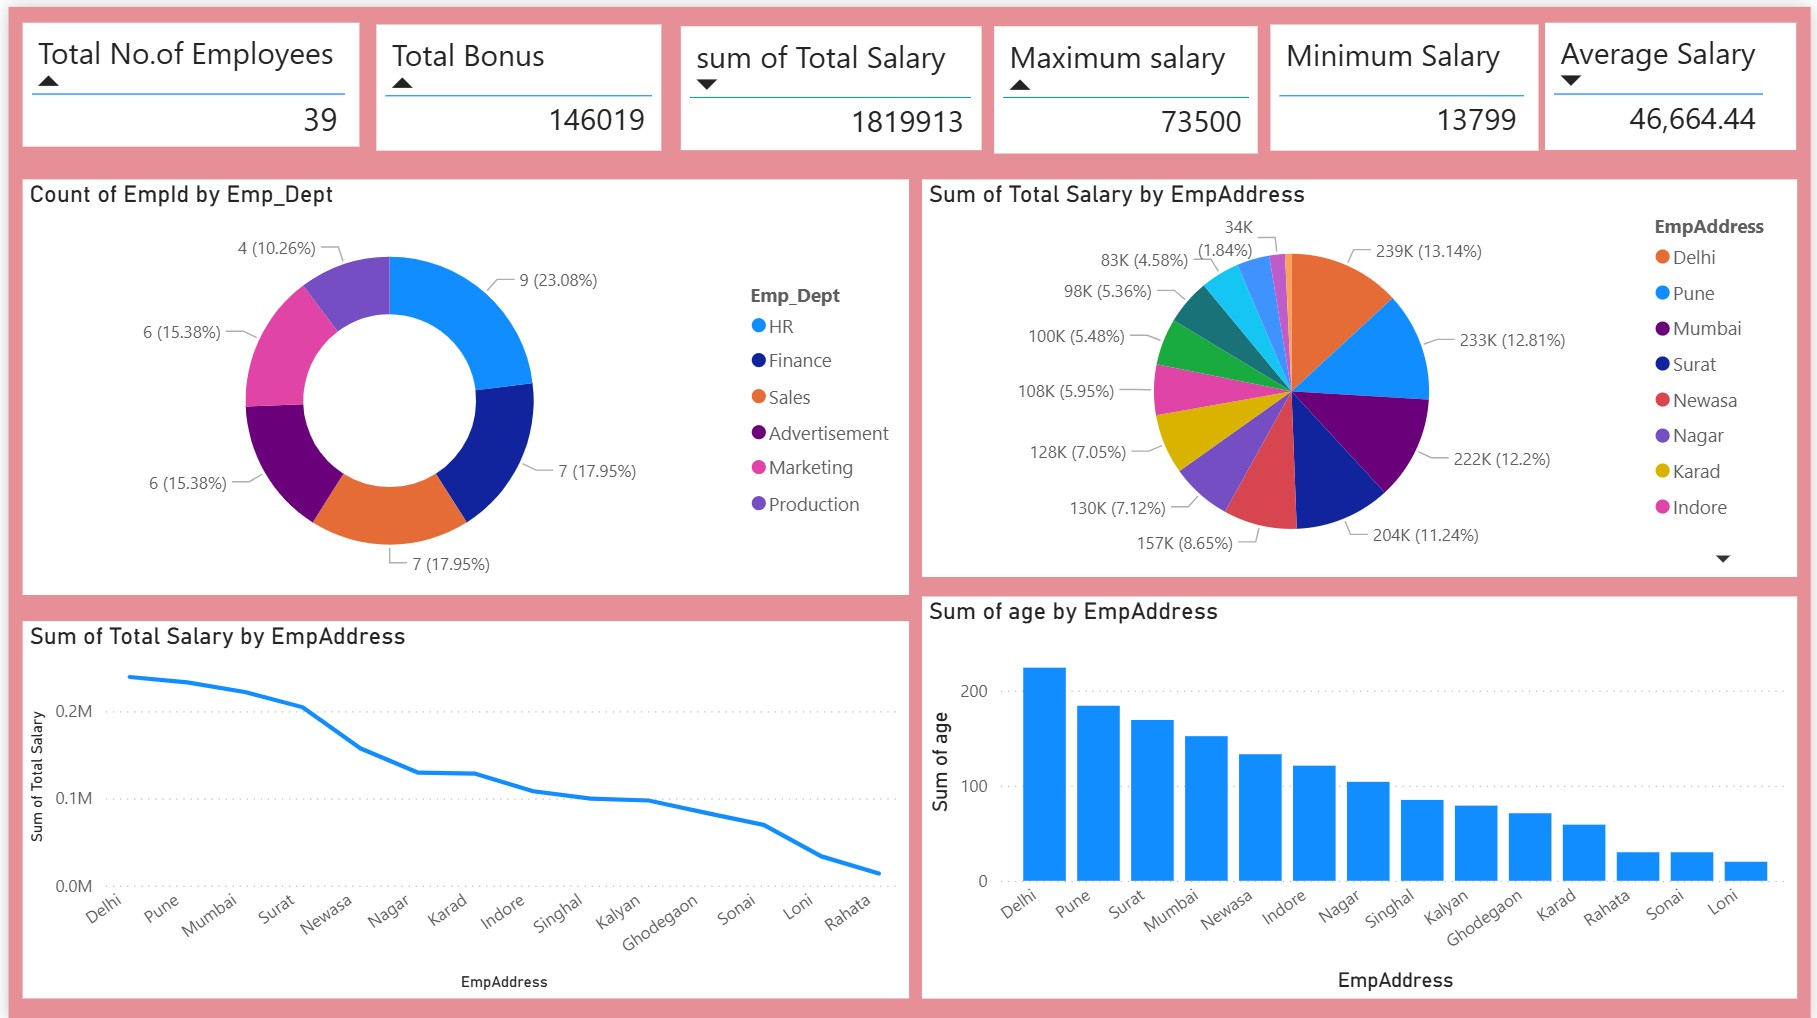

Layout of this report page (visuals, bound fields, positions):
{"tool":"powerbi","page":{"name":"Page 1","canvas":[1280,720],"ordinal":0},"visuals":[{"type":"tableEx","fields":{"Values":["Employee.Total No.of Employees"]},"box":[9.7,10.9,238.9,88.1],"z":0},{"type":"donutChart","fields":{"Category":["Employee.Emp_Dept "],"Y":["CountNonNull(Employee.EmpId)"]},"box":[9.7,123.1,629.8,295.6],"z":1000},{"type":"lineChart","fields":{"Category":["Employee.EmpAddress"],"Y":["Sum(Employee.Total Salary)"]},"box":[9.7,436.7,629.8,267.8],"z":2000},{"type":"tableEx","fields":{"Values":["Employee.Total Bonus"]},"box":[261.8,12.1,202.7,89.3],"z":3000},{"type":"columnChart","fields":{"Category":["Employee.EmpAddress"],"Y":["Sum(Employee.age)"]},"box":[649.1,418.6,621.3,285.9],"z":4000},{"type":"pieChart","fields":{"Category":["Employee.EmpAddress"],"Y":["Sum(Employee.Total Salary)"]},"box":[649.1,123.1,621.3,282.3],"z":5000},{"type":"tableEx","fields":{"Values":["Employee.sum of Total Salary"]},"box":[477.8,13.3,213.5,88.1],"z":6000},{"type":"tableEx","fields":{"Values":["Employee.Maximum salary"]},"box":[699.7,13.3,187,90.5],"z":7000},{"type":"tableEx","fields":{"Values":["Employee.Minimum Salary"]},"box":[896.4,12.1,190.6,89.3],"z":8000},{"type":"tableEx","fields":{"Values":["Employee.Average Salary"]},"box":[1091.8,10.9,178.6,90.5],"z":9000}]}

Visuals, with their boxes in screenshot pixels (x1, y1, x2, y2), scaled from the page's 1280x720 canvas onto the 1817x1018 screenshot:
tableEx - Employee.Total No.of Employees: {"x1": 14, "y1": 15, "x2": 353, "y2": 140}
donutChart - Employee.Emp_Dept  x CountNonNull(Employee.EmpId): {"x1": 14, "y1": 174, "x2": 908, "y2": 592}
lineChart - Employee.EmpAddress x Sum(Employee.Total Salary): {"x1": 14, "y1": 617, "x2": 908, "y2": 996}
tableEx - Employee.Total Bonus: {"x1": 372, "y1": 17, "x2": 659, "y2": 143}
columnChart - Employee.EmpAddress x Sum(Employee.age): {"x1": 921, "y1": 592, "x2": 1803, "y2": 996}
pieChart - Employee.EmpAddress x Sum(Employee.Total Salary): {"x1": 921, "y1": 174, "x2": 1803, "y2": 573}
tableEx - Employee.sum of Total Salary: {"x1": 678, "y1": 19, "x2": 981, "y2": 143}
tableEx - Employee.Maximum salary: {"x1": 993, "y1": 19, "x2": 1259, "y2": 147}
tableEx - Employee.Minimum Salary: {"x1": 1272, "y1": 17, "x2": 1543, "y2": 143}
tableEx - Employee.Average Salary: {"x1": 1550, "y1": 15, "x2": 1803, "y2": 143}
